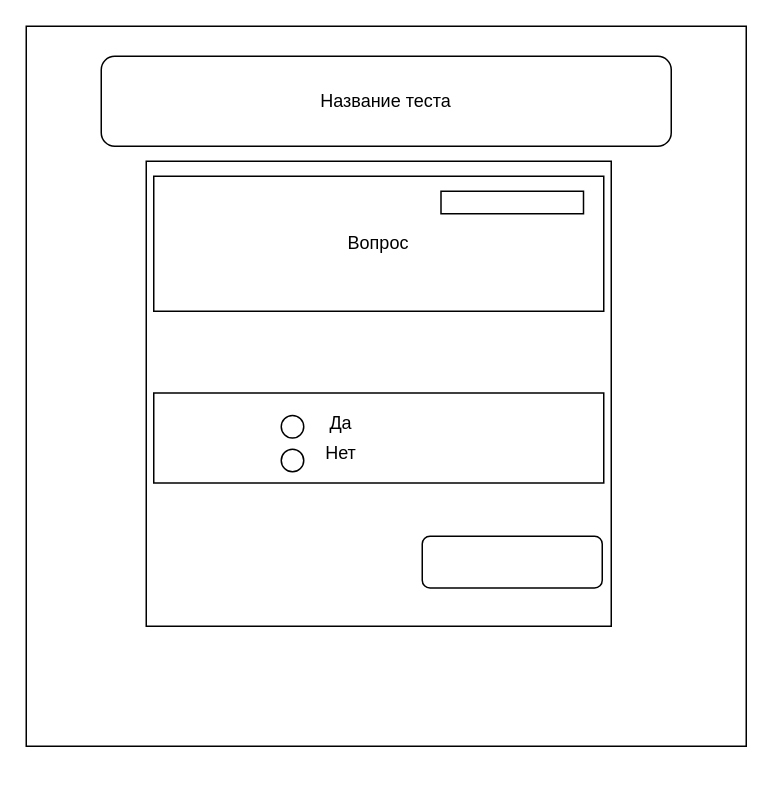
This 773x785 diagram has some shape labels left out. Here are the shapes that lost their labels. From the top down, the centre of each, then its label:
At [512,202]: "1 из 100".
At [511,561]: "Далее".
